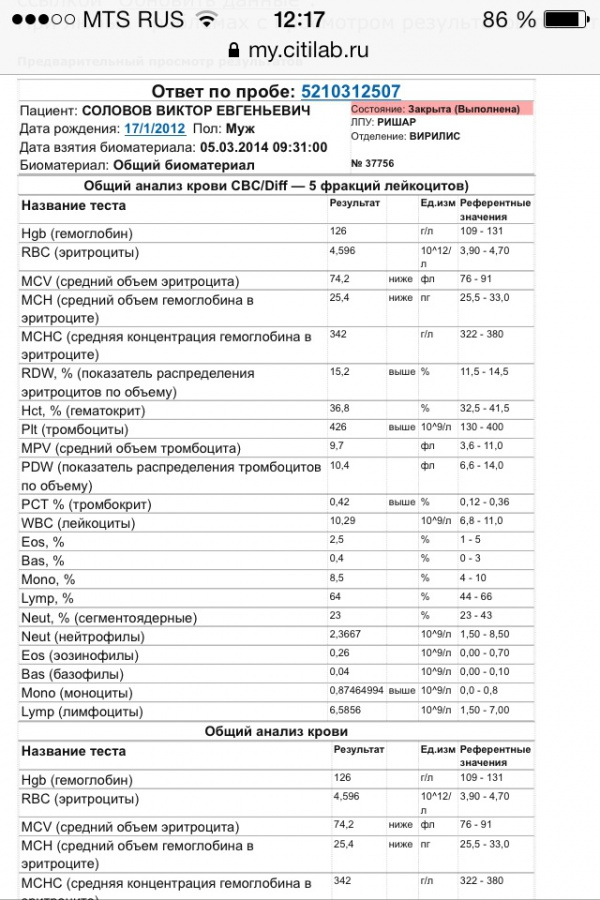column: (20, 194, 322, 720), (20, 740, 312, 900), (458, 194, 532, 720), (328, 194, 384, 720), (419, 194, 457, 720), (387, 194, 417, 720), (458, 740, 532, 900), (332, 740, 385, 900), (419, 740, 456, 900), (387, 740, 414, 900)
